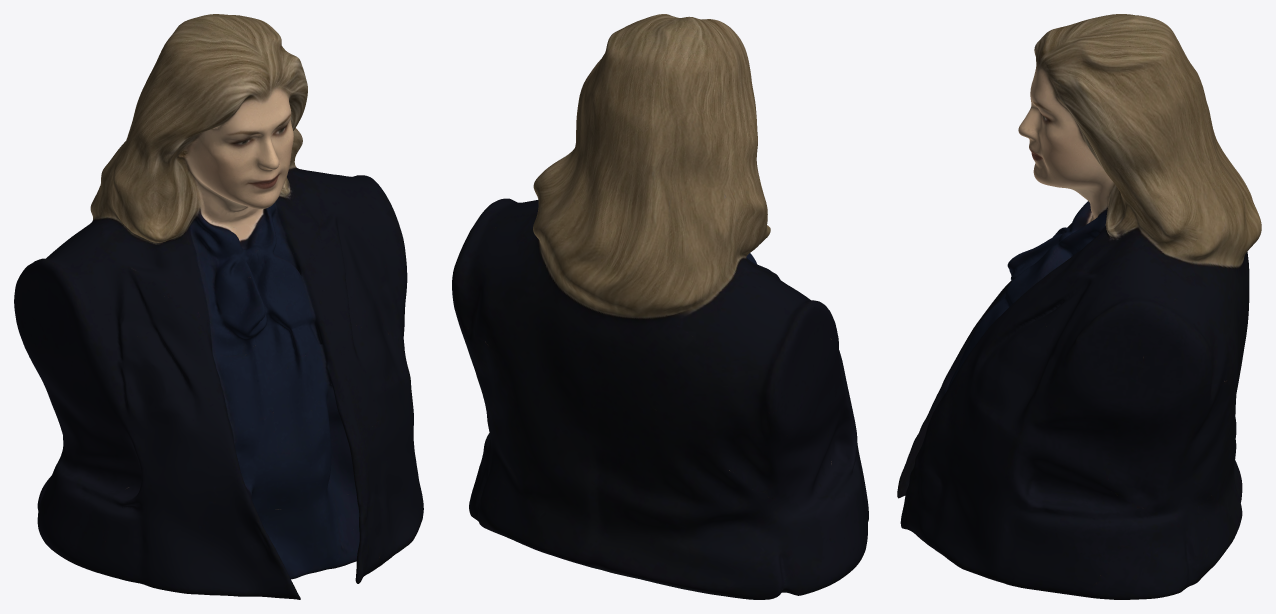
Rendered from Meshy_AI_Steadfast_Portrait_1025165543_texture-compressed.glb.
The picture shows the model from 3 angles, left to right: view 1: azimuth 30°, elevation 25°; view 2: azimuth 150°, elevation 25°; view 3: azimuth 270°, elevation 25°; orthographic projection. The views are drawn at different scales.
Visible parts, largest first — view 1: mesh_0; view 2: mesh_0; view 3: mesh_0.
Part boxes in pixels (<box>): mesh_0: <box>14,14,423,599</box>; mesh_0: <box>452,14,868,599</box>; mesh_0: <box>897,14,1261,599</box>.
Bounding box in the file's own units: 1.4 × 1.9 × 1.26.
Materials: 1 (1 with a texture image).
